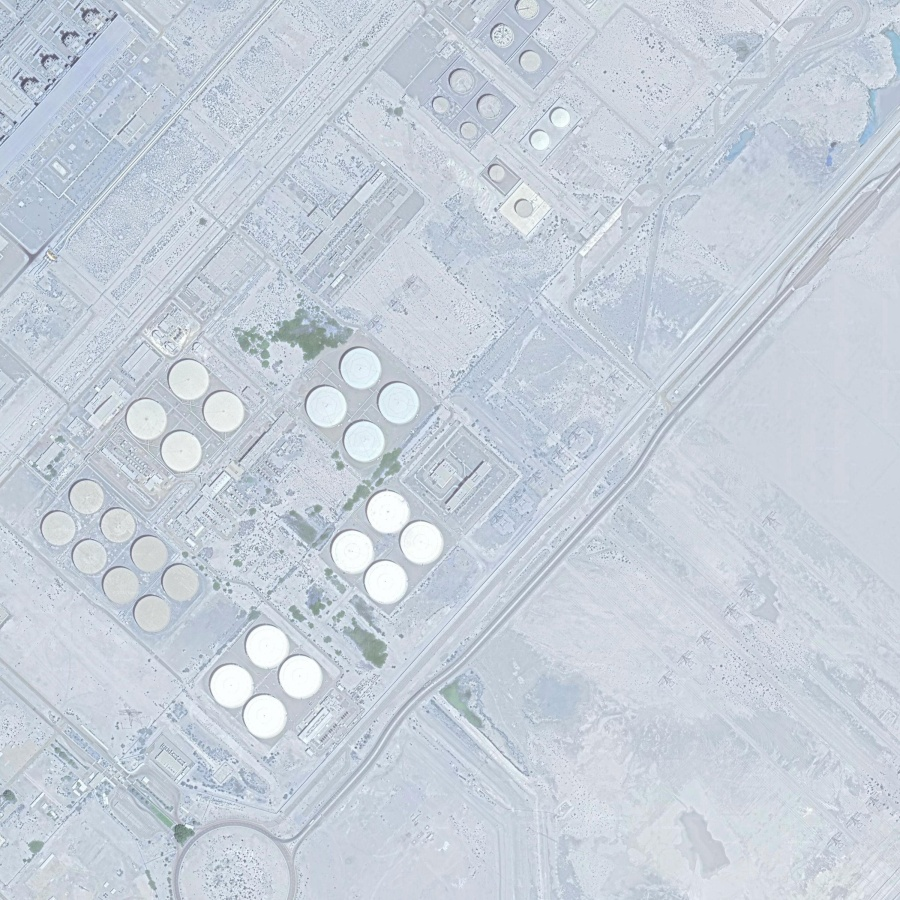PowerPlant: (31, 298, 481, 758)
